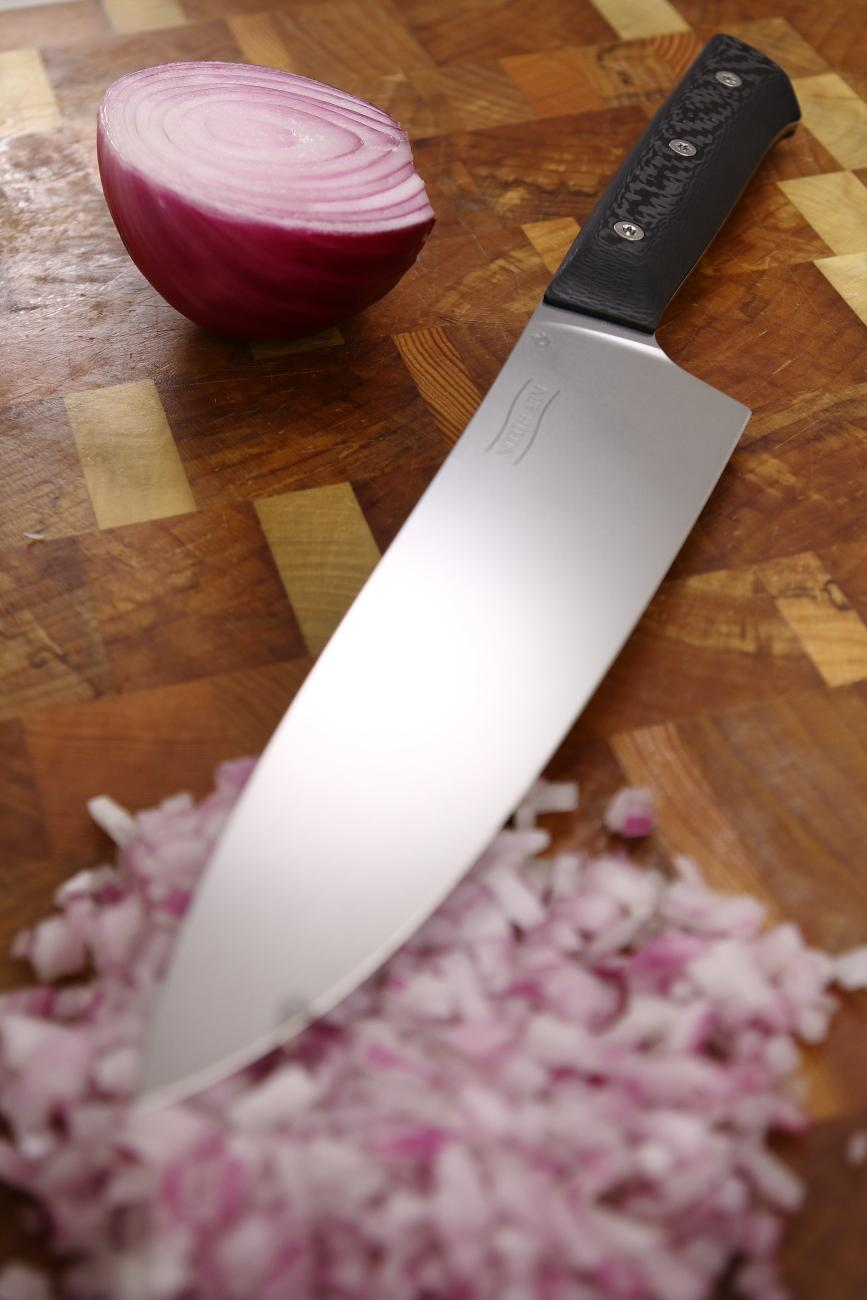Knife: (133, 37, 803, 1122)
